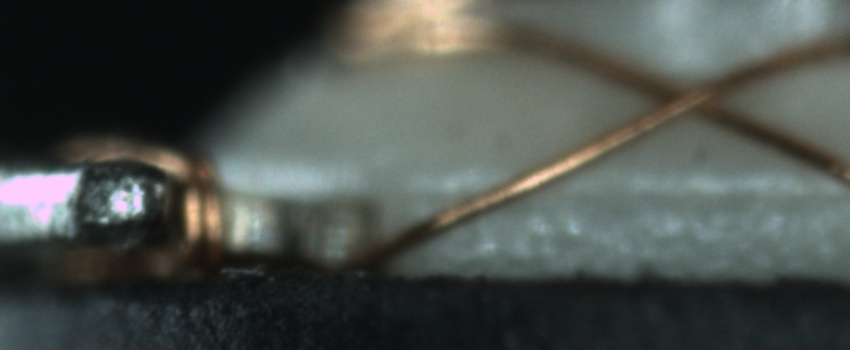CL: (643, 64, 739, 130)
DL: (419, 161, 850, 222)
TE: (58, 131, 234, 282)
